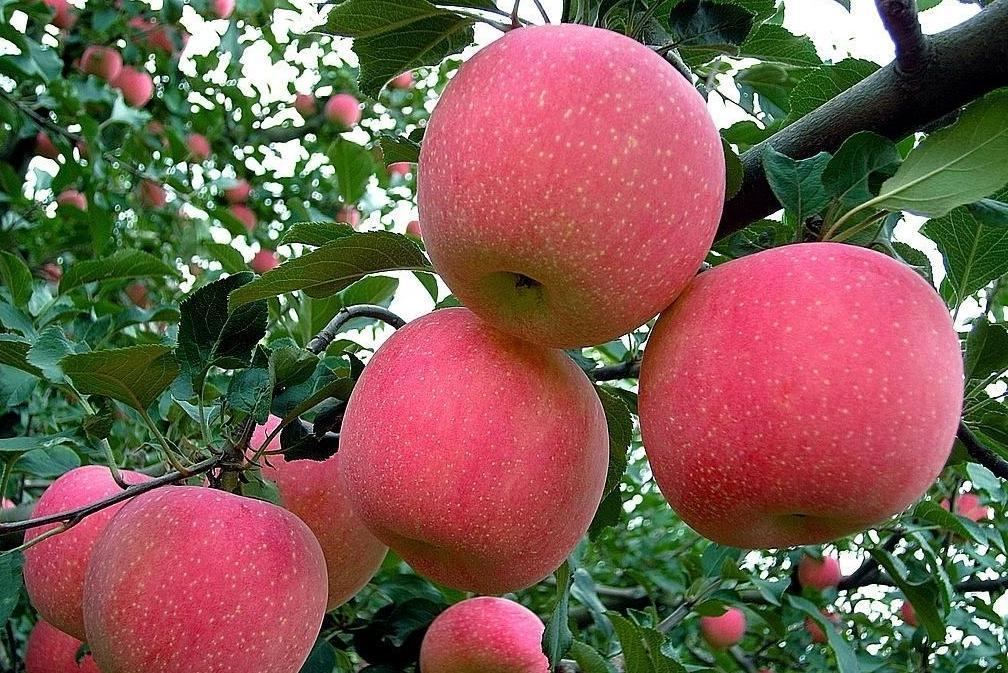apple: (414, 24, 726, 345), (639, 239, 960, 548), (336, 307, 618, 593), (78, 481, 328, 673)
